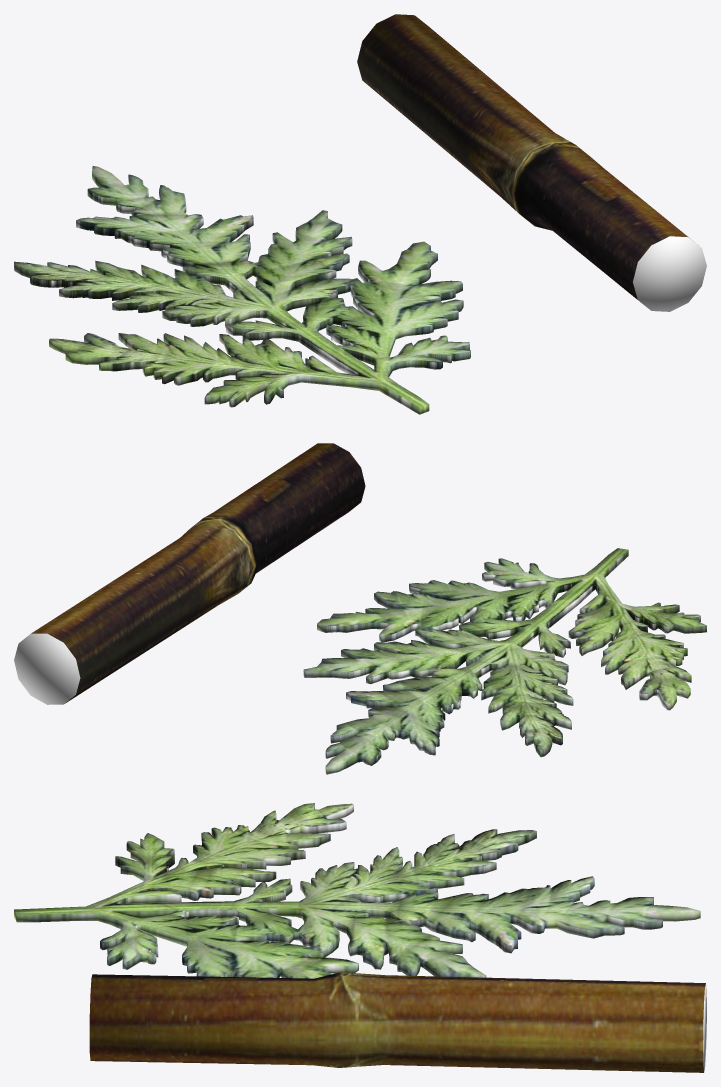
File: qinghao.FBX
3 renders of one model, top to bottom at view 1: azimuth 30°, elevation 25°; view 2: azimuth 150°, elevation 25°; view 3: azimuth 270°, elevation 25°, orthographic. The views are drawn at different scales.
Visible parts, largest first — view 1: Line001, Cylinder001; view 2: Line001, Cylinder001; view 3: Line001, Cylinder001.
Part boxes in pixels (x1=…): Line001: x1=14, y1=166, x2=470, y2=414; Cylinder001: x1=357, y1=14, x2=706, y2=311; Line001: x1=303, y1=548, x2=706, y2=774; Cylinder001: x1=14, y1=443, x2=365, y2=704; Line001: x1=14, y1=803, x2=700, y2=978; Cylinder001: x1=89, y1=972, x2=706, y2=1072.
Size of the model in its own units: 16.74 by 2.46 by 17.39.
Materials: 1 (1 with a texture image).
